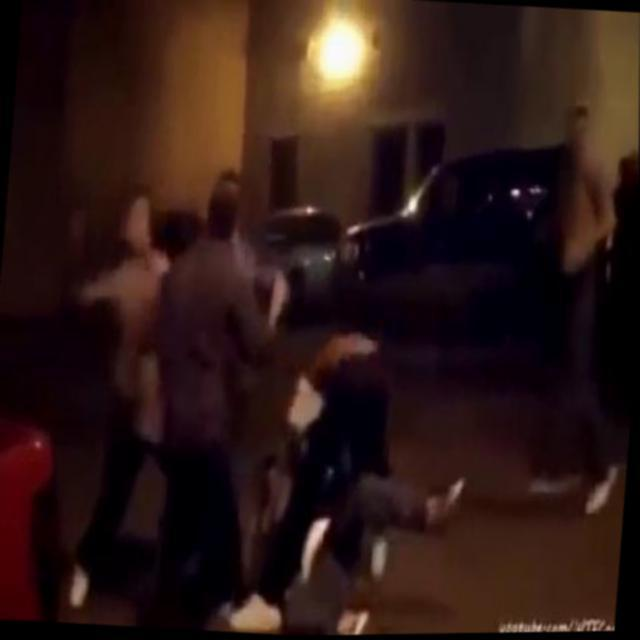fight: (63, 165, 294, 630), (244, 306, 482, 637)
